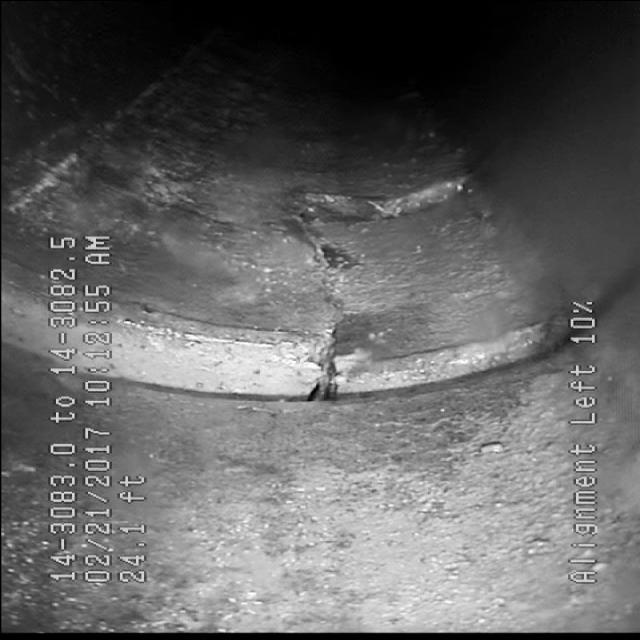Crack: (232, 162, 429, 422)
